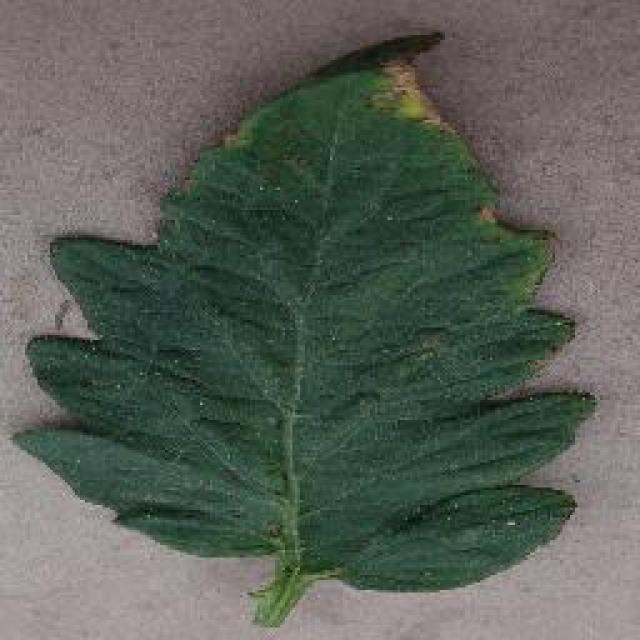Tomato bacterial spot leaf: (10, 22, 600, 600)
